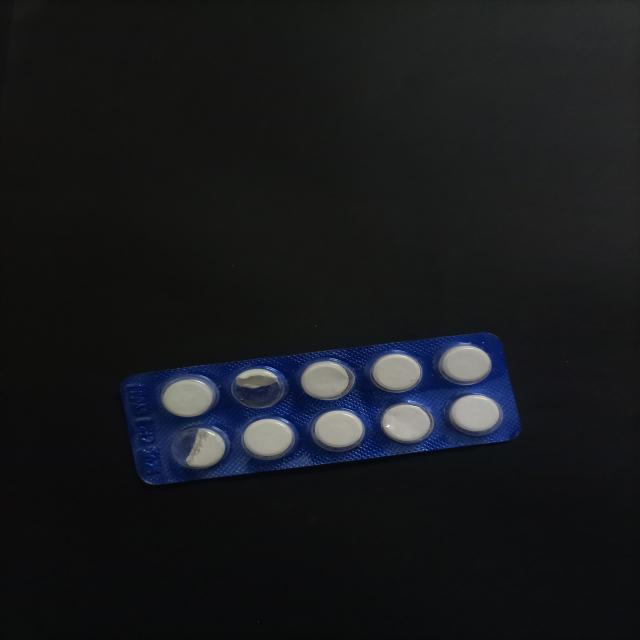defect: (227, 362, 290, 411), (168, 423, 231, 472)
